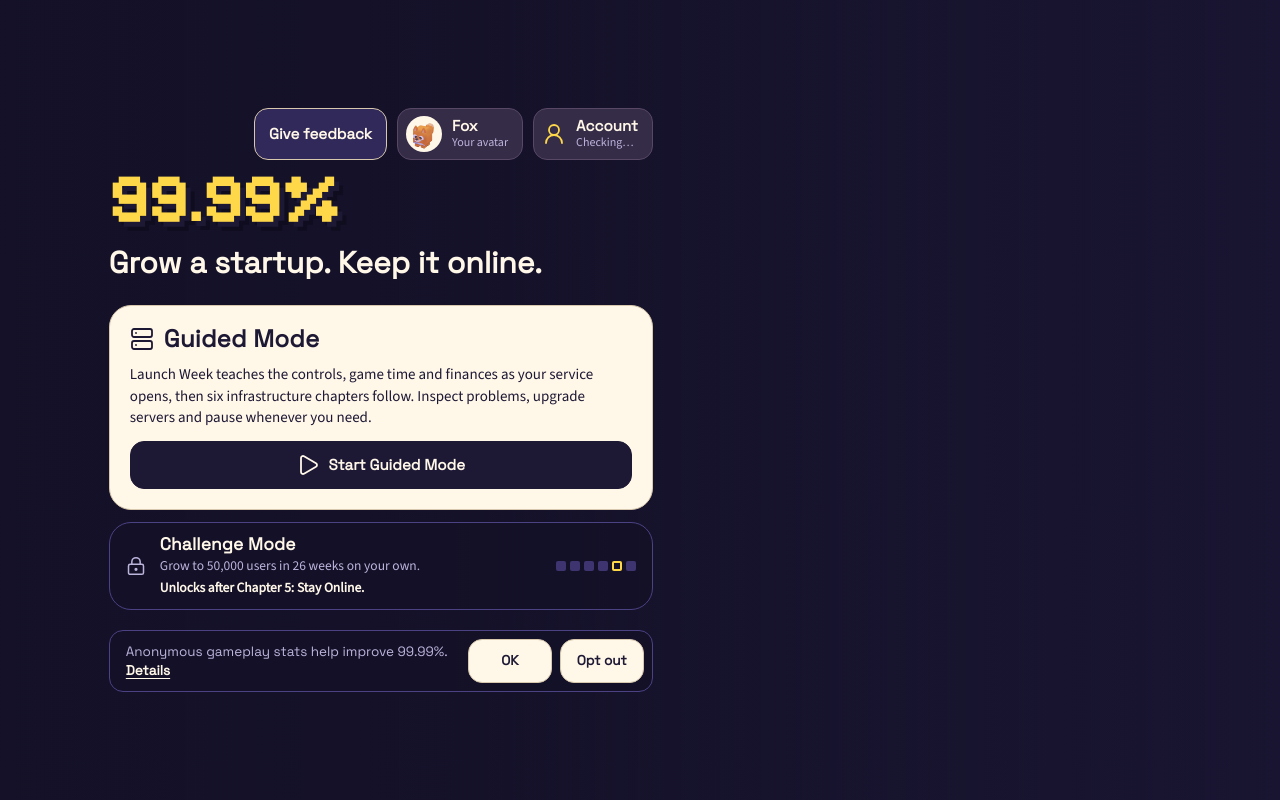
it: analytics consent › shows the notice only until the player confirms it, persisting the choice
Click the button "OK" at (510, 661), box [468,639,552,683]
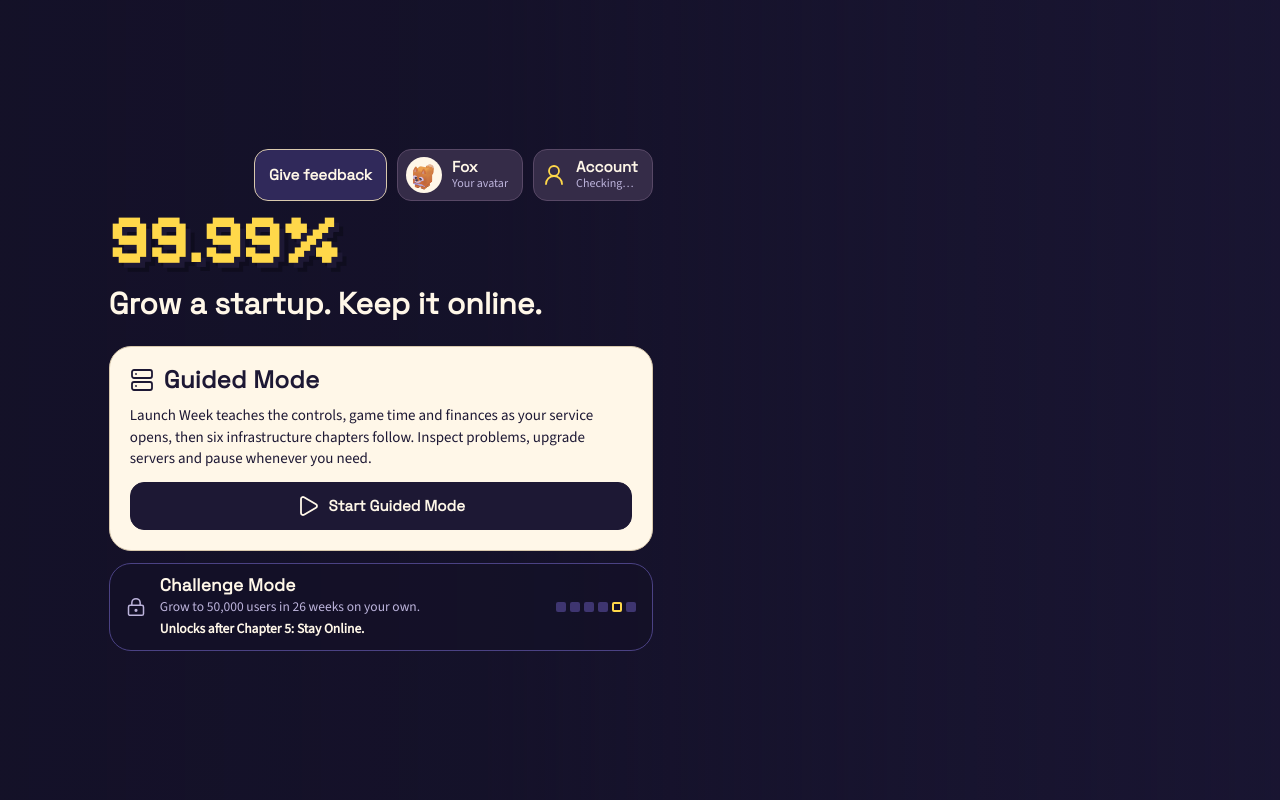
Check: the heading "help improve 99.99%" is gone
